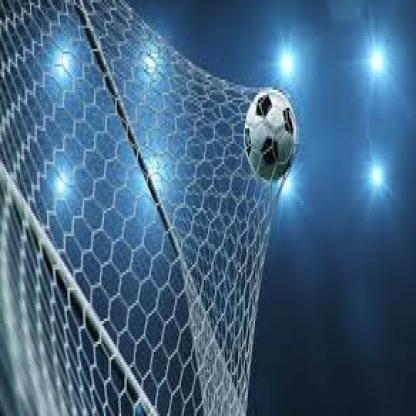ball: (244, 87, 298, 182)
